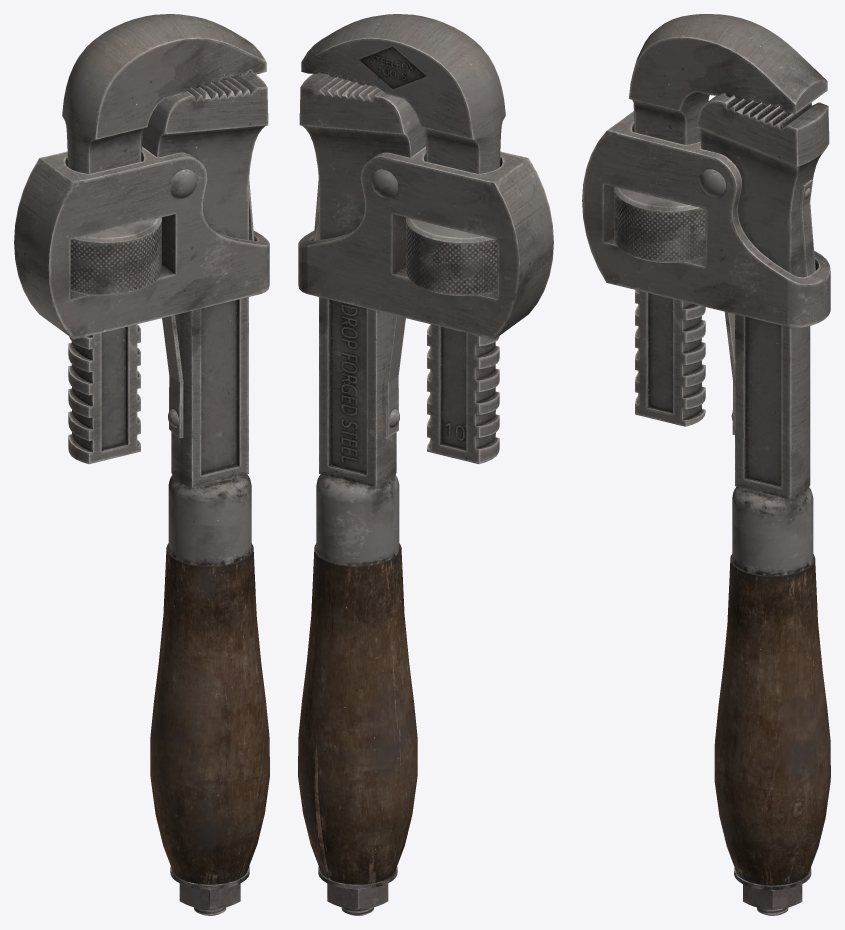
Rendered from adjustable_wrench.glb.
3 renders of one model, left to right at view 1: azimuth 30°, elevation 25°; view 2: azimuth 150°, elevation 25°; view 3: azimuth 330°, elevation 25°, orthographic. The views are drawn at different scales.
Parts seen in each view (by area): view 1: adjustable_wrench_jaw; view 2: adjustable_wrench_jaw; view 3: adjustable_wrench_jaw.
Boxes of the visible parts, x1,y1,x2,y2 form: adjustable_wrench_jaw: (14, 14, 269, 915); adjustable_wrench_jaw: (298, 14, 553, 915); adjustable_wrench_jaw: (582, 14, 830, 915).
Size of the model in its own units: 0.0684 by 0.2541 by 0.0306.
1 material, 1 textured.
